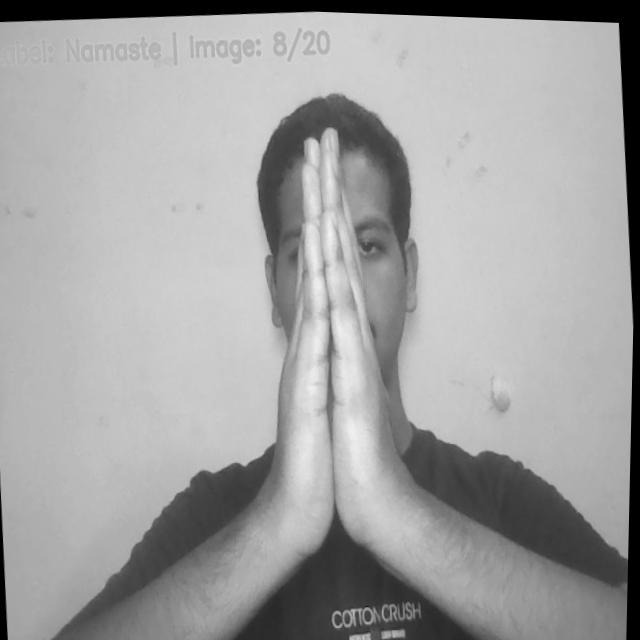Namaste: (257, 125, 403, 535)
